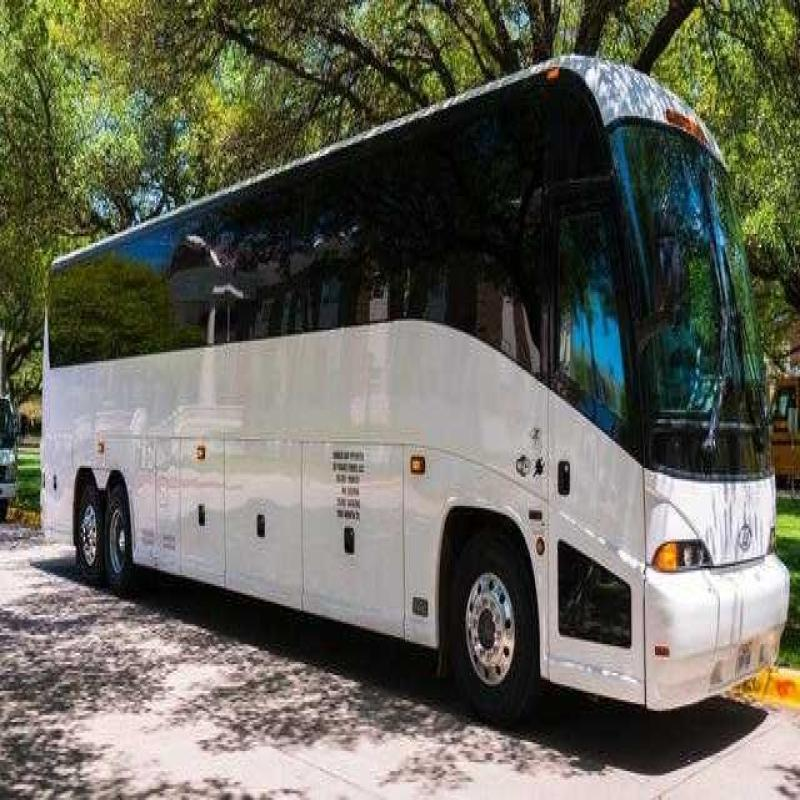bus: (41, 36, 795, 800)
